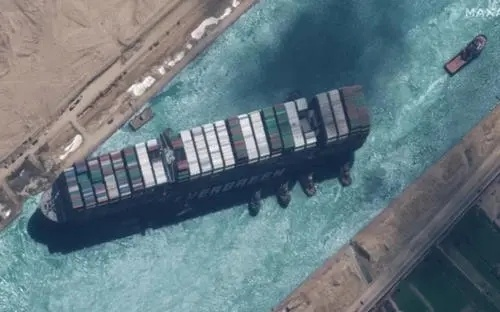Cargoship: (41, 82, 377, 226)
otherboat: (440, 33, 492, 73)
